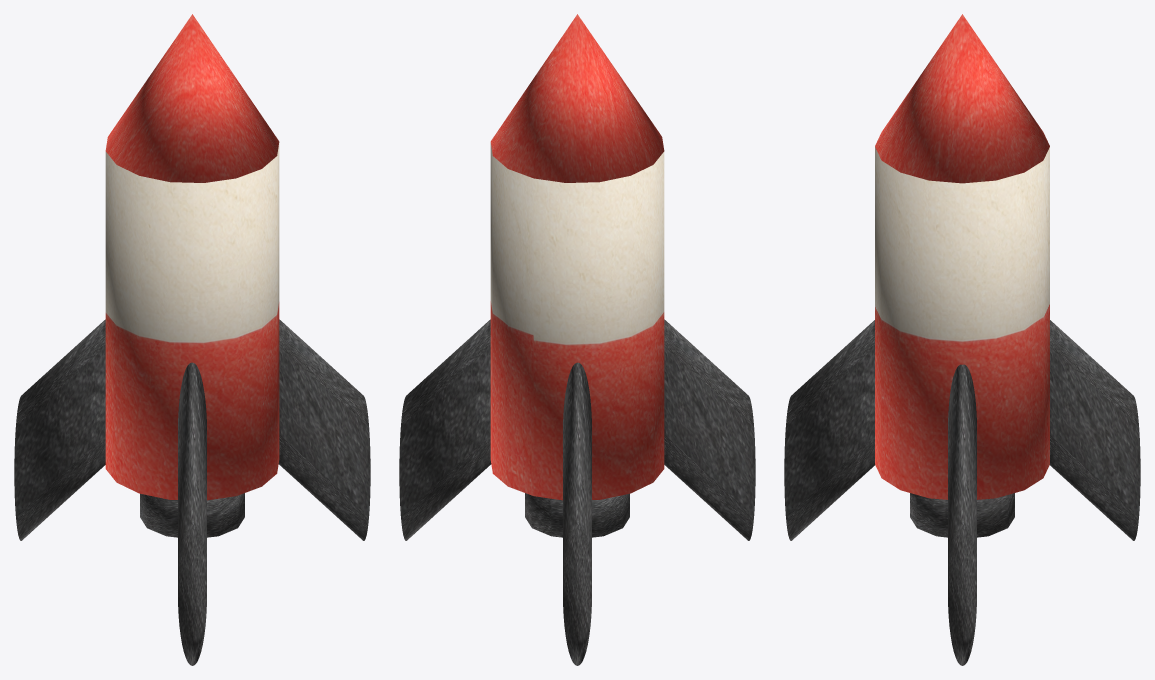
Rendered from rocket.glb.
3 views of the same model, side by side, from view 1: azimuth 30°, elevation 25°; view 2: azimuth 150°, elevation 25°; view 3: azimuth 270°, elevation 25° (orthographic).
Parts seen in each view (by area): view 1: Body, Rocket, Nose, Nozzle; view 2: Body, Rocket, Nose, Nozzle; view 3: Body, Rocket, Nose, Nozzle.
Part boxes in pixels (left/top/right/bottom): Body: left=105, top=143, right=279, bottom=500; Rocket: left=14, top=319, right=370, bottom=665; Nose: left=105, top=14, right=279, bottom=182; Nozzle: left=140, top=493, right=244, bottom=537; Body: left=490, top=143, right=664, bottom=500; Rocket: left=399, top=319, right=755, bottom=665; Nose: left=490, top=14, right=664, bottom=182; Nozzle: left=525, top=493, right=629, bottom=537; Body: left=875, top=147, right=1049, bottom=499; Rocket: left=784, top=320, right=1140, bottom=665; Nose: left=875, top=14, right=1049, bottom=183; Nozzle: left=910, top=493, right=1014, bottom=537.
Bounding box in the file's own units: 1.06 × 2.15 × 1.22.
1 material, 1 textured.
